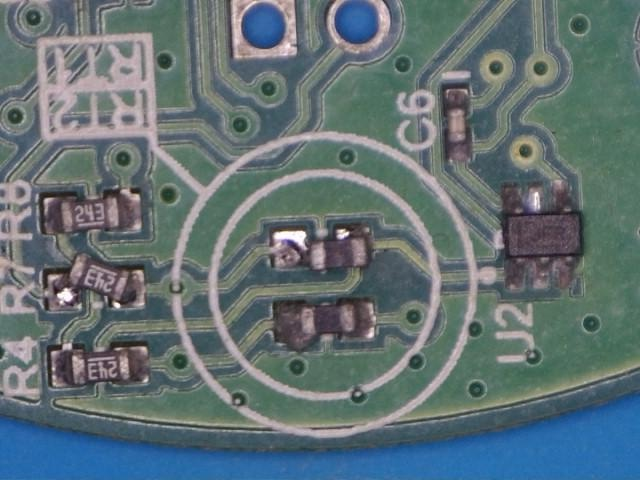pcb_defect: (45, 252, 147, 313), (270, 224, 374, 272)
